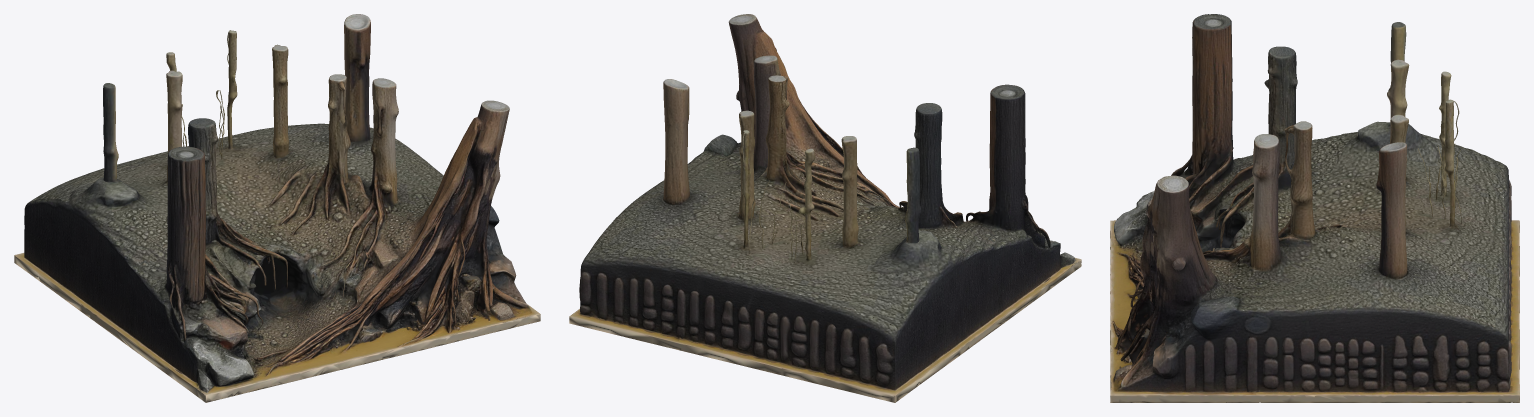
Rendered from Rngver10-v1.glb.
The picture shows the model from 3 angles, left to right: view 1: azimuth 30°, elevation 25°; view 2: azimuth 150°, elevation 25°; view 3: azimuth 270°, elevation 25°; orthographic projection. The views are drawn at different scales.
Visible parts, largest first — view 1: tripo_node_876da0f3-7afd-4aa3-83ae-08fc682d5987; view 2: tripo_node_876da0f3-7afd-4aa3-83ae-08fc682d5987; view 3: tripo_node_876da0f3-7afd-4aa3-83ae-08fc682d5987.
Boxes of the visible parts, box(x1,y1,x2,y2) form: tripo_node_876da0f3-7afd-4aa3-83ae-08fc682d5987: box(14, 14, 540, 402); tripo_node_876da0f3-7afd-4aa3-83ae-08fc682d5987: box(569, 14, 1081, 402); tripo_node_876da0f3-7afd-4aa3-83ae-08fc682d5987: box(1110, 14, 1519, 402).
Bounding box in the file's own units: 0.9901 × 0.615 × 0.9818.
Materials: 1 (1 with a texture image).
